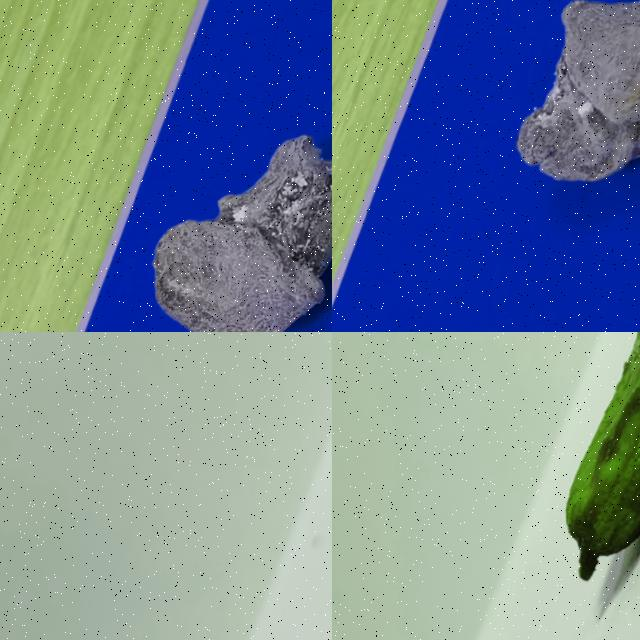Agglomerated_cocoabeans: (66, 14, 331, 331), (417, 0, 639, 318)
Fine_cocoabeans: (487, 332, 639, 639)
